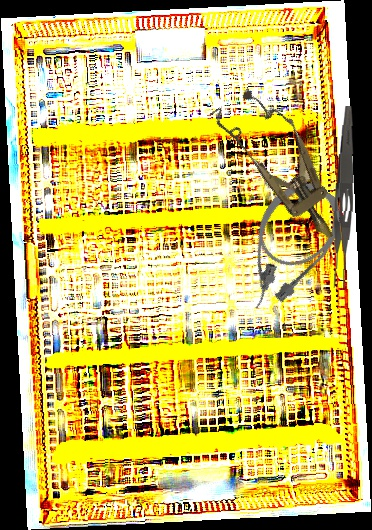Cannula: (216, 169, 356, 323)
Dressing Forceps: (329, 105, 357, 289)
Speculum: (207, 77, 359, 257)
